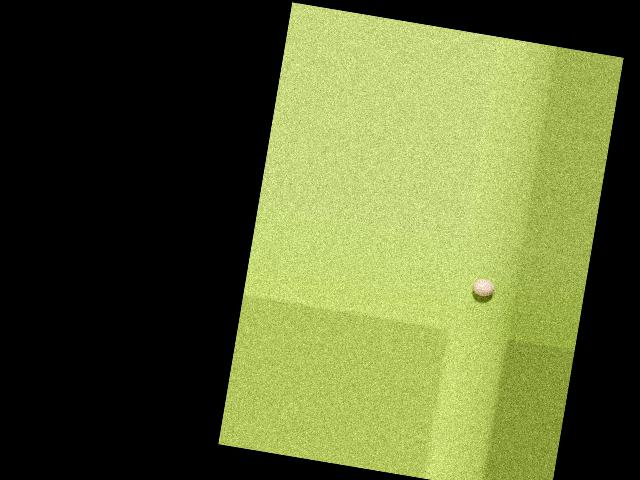egg: (472, 278, 496, 298)
